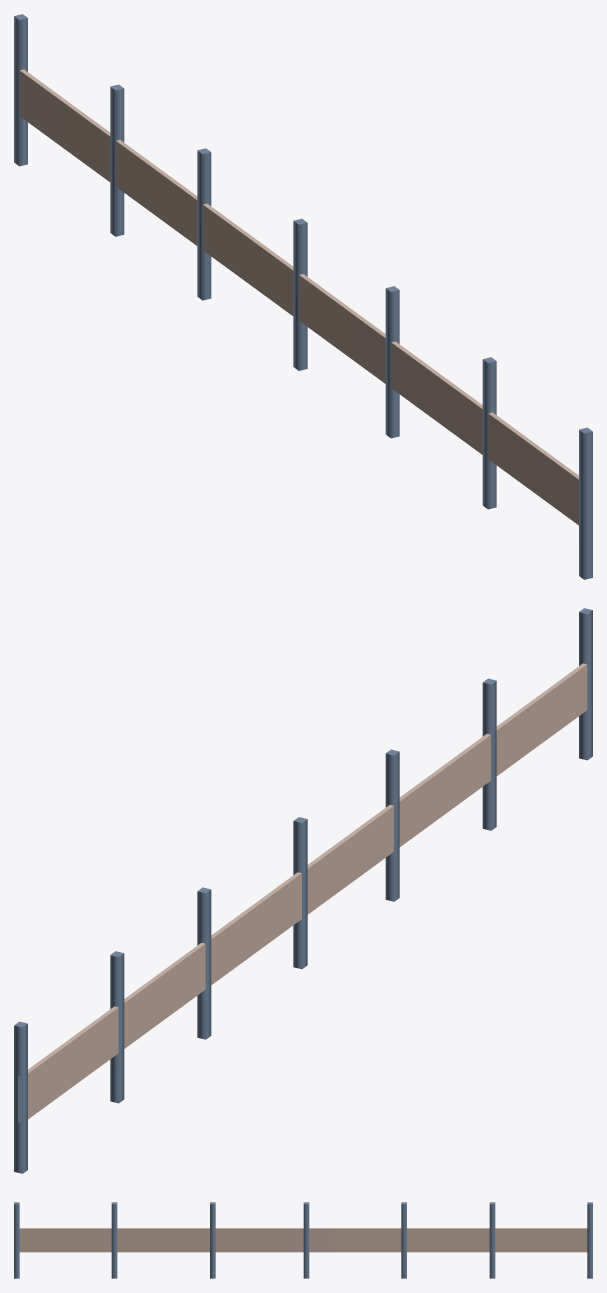
File: SM_Fense.fbx
3 renders of one model, top to bottom at view 1: azimuth 30°, elevation 25°; view 2: azimuth 150°, elevation 25°; view 3: azimuth 270°, elevation 25°, orthographic. The views are drawn at different scales.
Visible parts, largest first — view 1: SM_Fense; view 2: SM_Fense; view 3: SM_Fense.
Boxes of the visible parts, bbox=[...] form: SM_Fense: bbox=[14, 14, 592, 579]; SM_Fense: bbox=[14, 608, 592, 1173]; SM_Fense: bbox=[14, 1202, 592, 1278].
Size of the model in its own units: 25.57 by 412 by 2912.
